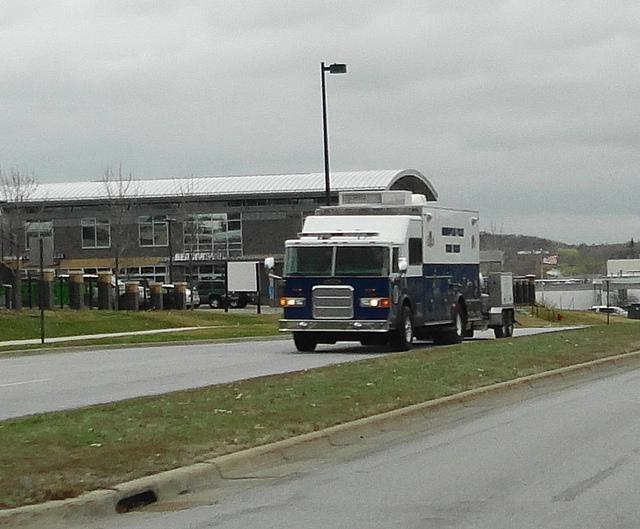car: (81, 275, 151, 308), (194, 280, 226, 309), (586, 305, 628, 318), (185, 289, 200, 310)
truck: (264, 188, 516, 355)
